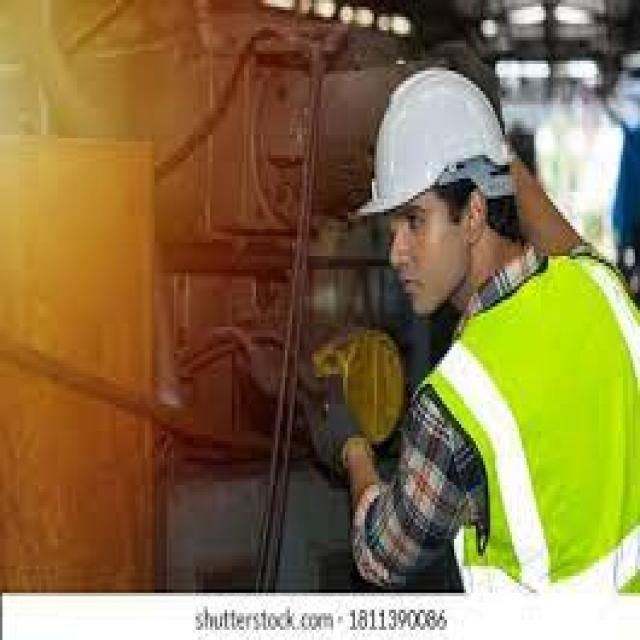Reflective-Jacket: (416, 259, 636, 596)
Safety-Helmet: (355, 61, 527, 229)
